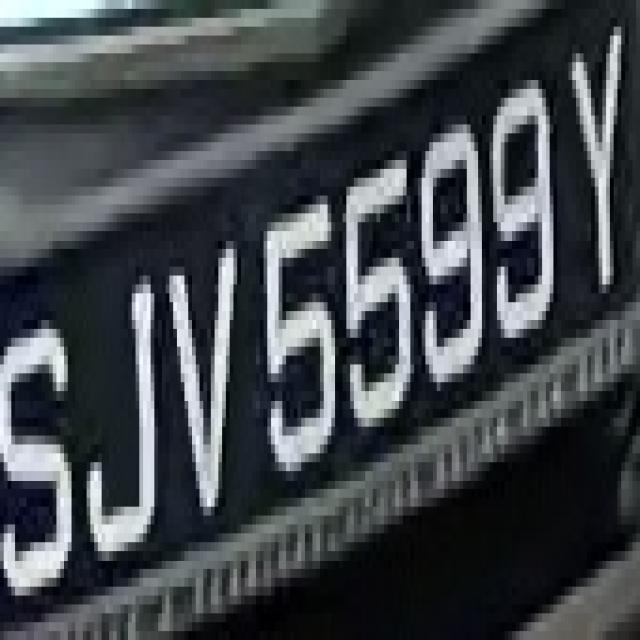5: (249, 195, 350, 498), (346, 160, 422, 462)
9: (474, 71, 558, 365), (402, 124, 486, 409)
J: (79, 284, 166, 586)
S: (7, 276, 83, 631)
V: (162, 249, 248, 507)
Y: (557, 36, 629, 311)
